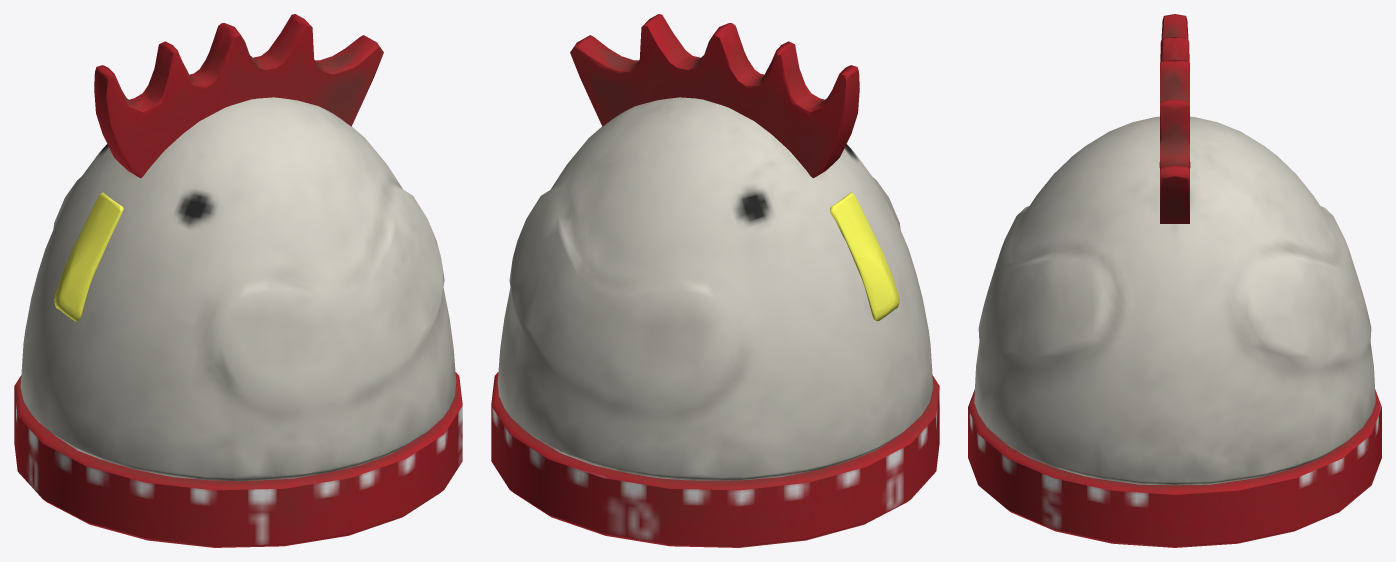
Rendered from SM_Timer.fbx.
3 renders of one model, left to right at view 1: azimuth 30°, elevation 25°; view 2: azimuth 150°, elevation 25°; view 3: azimuth 270°, elevation 25°, orthographic. The views are drawn at different scales.
Visible parts, largest first — view 1: SM_Timer_LOD0; view 2: SM_Timer_LOD0; view 3: SM_Timer_LOD0.
Boxes of the visible parts, left/top/right/bottom form: SM_Timer_LOD0: left=14, top=14, right=462, bottom=547; SM_Timer_LOD0: left=491, top=14, right=939, bottom=547; SM_Timer_LOD0: left=968, top=14, right=1381, bottom=547.
Size of the model in its own units: 16.08 by 15.97 by 16.89.
1 material, 1 textured.
